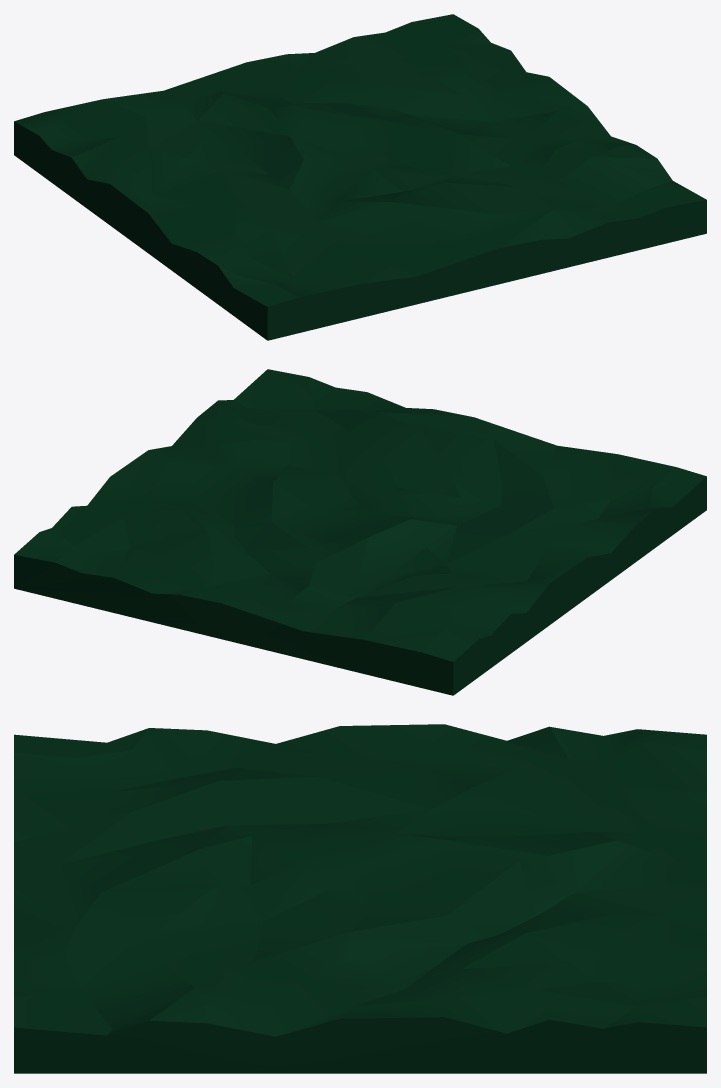
File: Grass_Base.fbx
3 views of the same model, one above another, from view 1: azimuth 30°, elevation 25°; view 2: azimuth 150°, elevation 25°; view 3: azimuth 270°, elevation 25° (orthographic). The views are drawn at different scales.
Visible parts, largest first — view 1: Grass_Base; view 2: Grass_Base; view 3: Grass_Base.
Part boxes in pixels (x1,y1,x2,y2): Grass_Base: (14, 14, 706, 340); Grass_Base: (14, 369, 706, 695); Grass_Base: (14, 724, 706, 1073).
Bounding box in the file's own units: 147 × 14.69 × 147.
